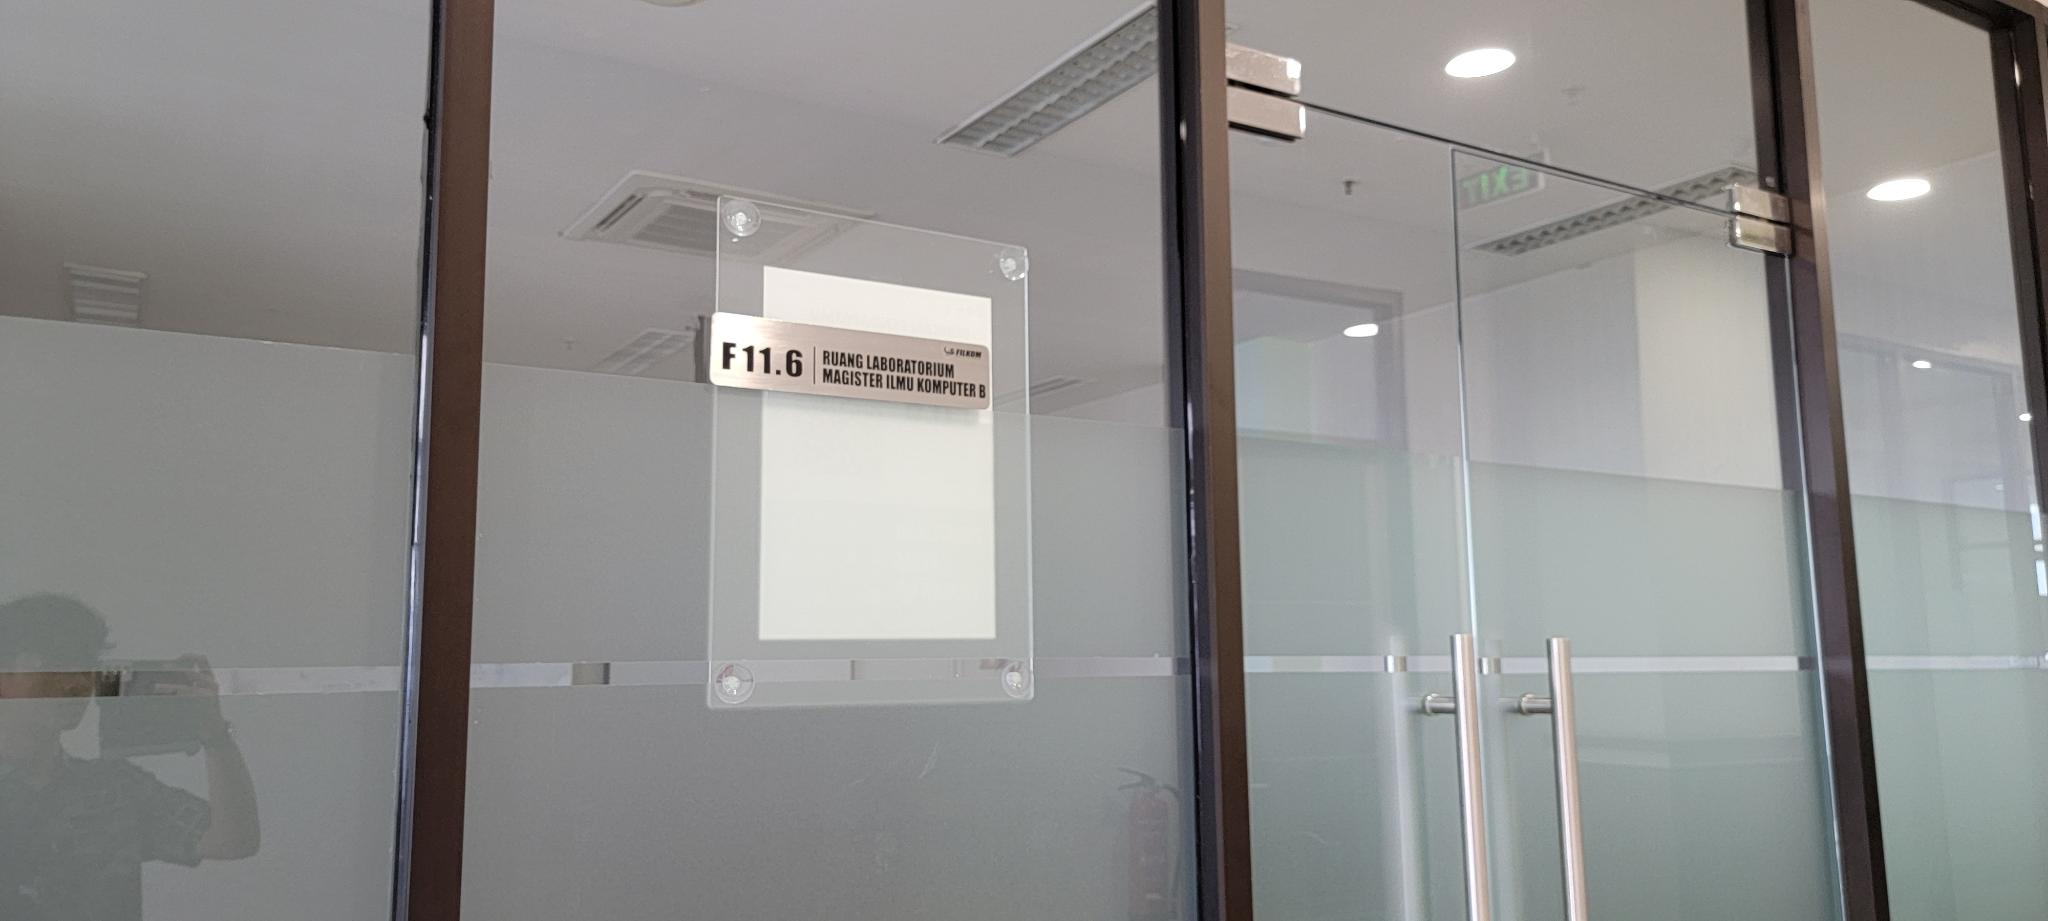plate: (707, 308, 995, 410)
